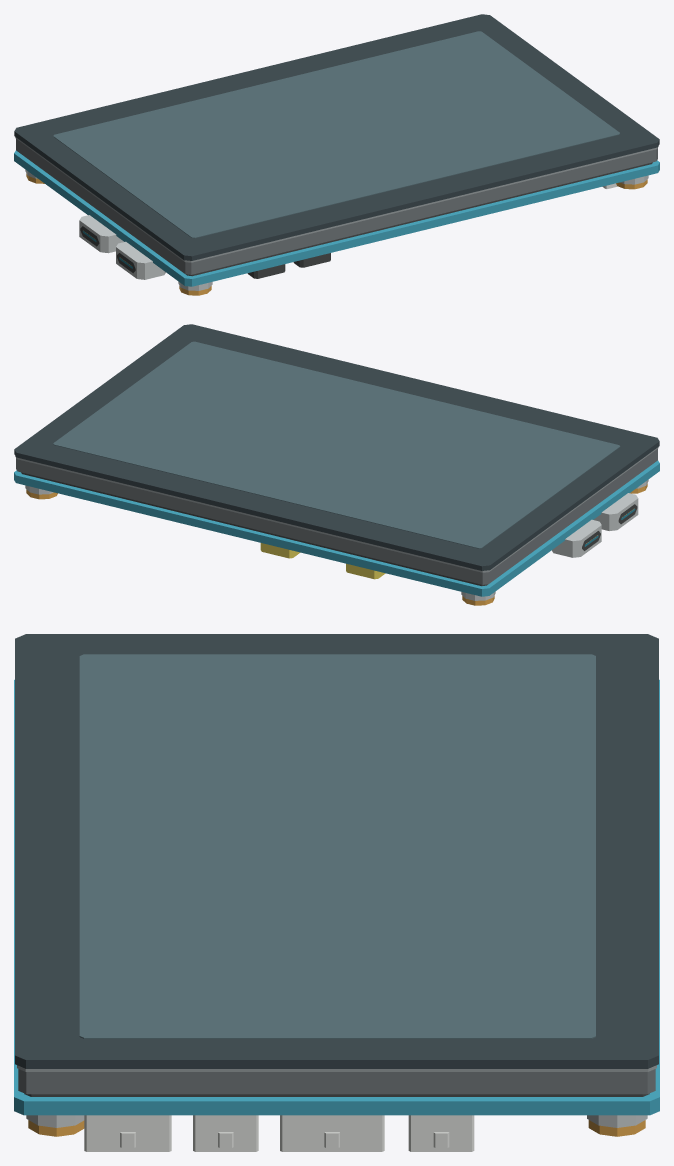
Rendered from device.glb.
The picture shows the model from 3 angles, top to bottom: view 1: azimuth 30°, elevation 25°; view 2: azimuth 150°, elevation 25°; view 3: azimuth 270°, elevation 25°; orthographic projection. The views are drawn at different scales.
Parts seen in each view (by area): view 1: ESP32-S3-Touch-LCD-4.3 simplified; view 2: ESP32-S3-Touch-LCD-4.3 simplified; view 3: ESP32-S3-Touch-LCD-4.3 simplified.
Boxes of the visible parts, <box> form: ESP32-S3-Touch-LCD-4.3 simplified: <box>14,14,659,295</box>; ESP32-S3-Touch-LCD-4.3 simplified: <box>14,324,659,605</box>; ESP32-S3-Touch-LCD-4.3 simplified: <box>14,634,659,1151</box>.
Bounding box in the file's own units: 0.1091 × 0.0113 × 0.068.
